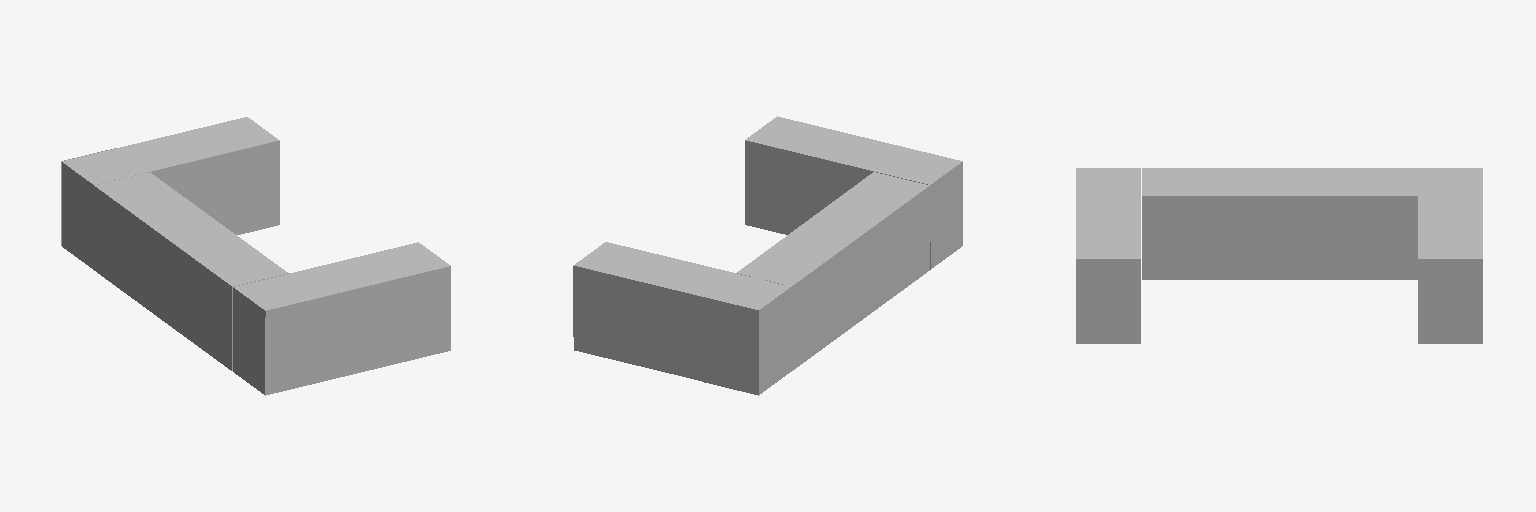
The model's file is Barriers_easy_robot.obj.
The picture shows the model from 3 angles: view 1: azimuth 30°, elevation 25°; view 2: azimuth 150°, elevation 25°; view 3: azimuth 270°, elevation 25°; orthographic projection.
Parts seen in each view (by area): view 1: Robot, Robot-2, Robot-3; view 2: Robot-3, Robot-2, Robot, Robot-4; view 3: Robot-2, Robot, Robot-3.
Part boxes in pixels (left/top/right/bottom): Robot: left=233, top=242, right=450, bottom=395; Robot-2: left=94, top=172, right=288, bottom=370; Robot-3: left=62, top=117, right=279, bottom=269; Robot-3: left=573, top=242, right=791, bottom=394; Robot-2: left=737, top=172, right=929, bottom=370; Robot: left=745, top=116, right=962, bottom=269; Robot-4: left=702, top=297, right=758, bottom=395; Robot-2: left=1142, top=168, right=1417, bottom=279; Robot: left=1076, top=168, right=1140, bottom=343; Robot-3: left=1418, top=168, right=1482, bottom=343.
Size of the model in its own units: 34.43 by 15.07 by 65.57.